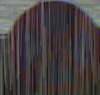No Stopping: (10, 2, 91, 86)
